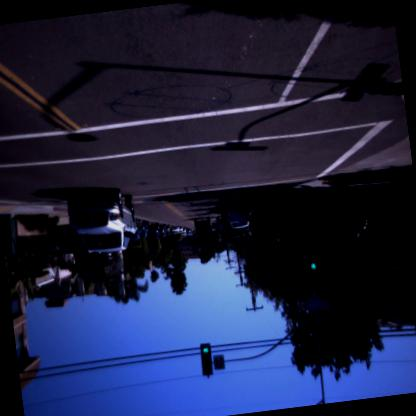trafficlight: (198, 342, 215, 378), (309, 261, 320, 289)
